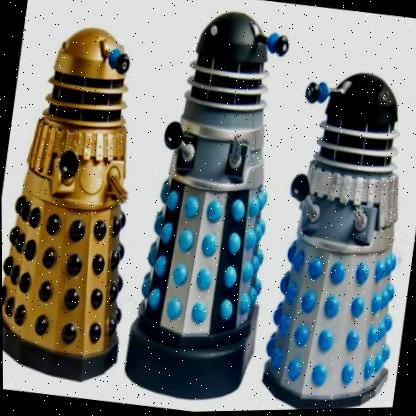dalek: (107, 0, 307, 414), (245, 27, 416, 411), (0, 14, 165, 383)
